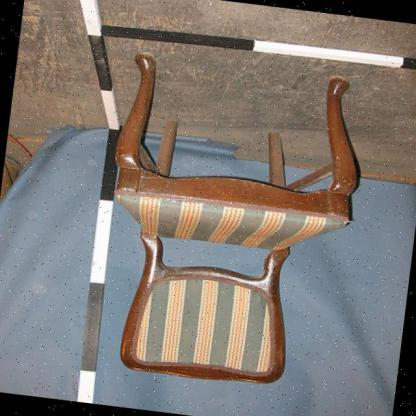Chair: (82, 46, 380, 408)
